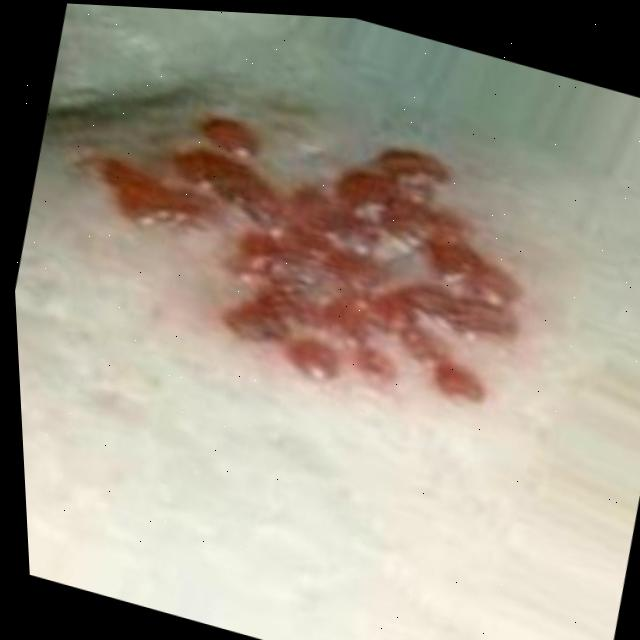Shingles: (66, 54, 560, 442)
